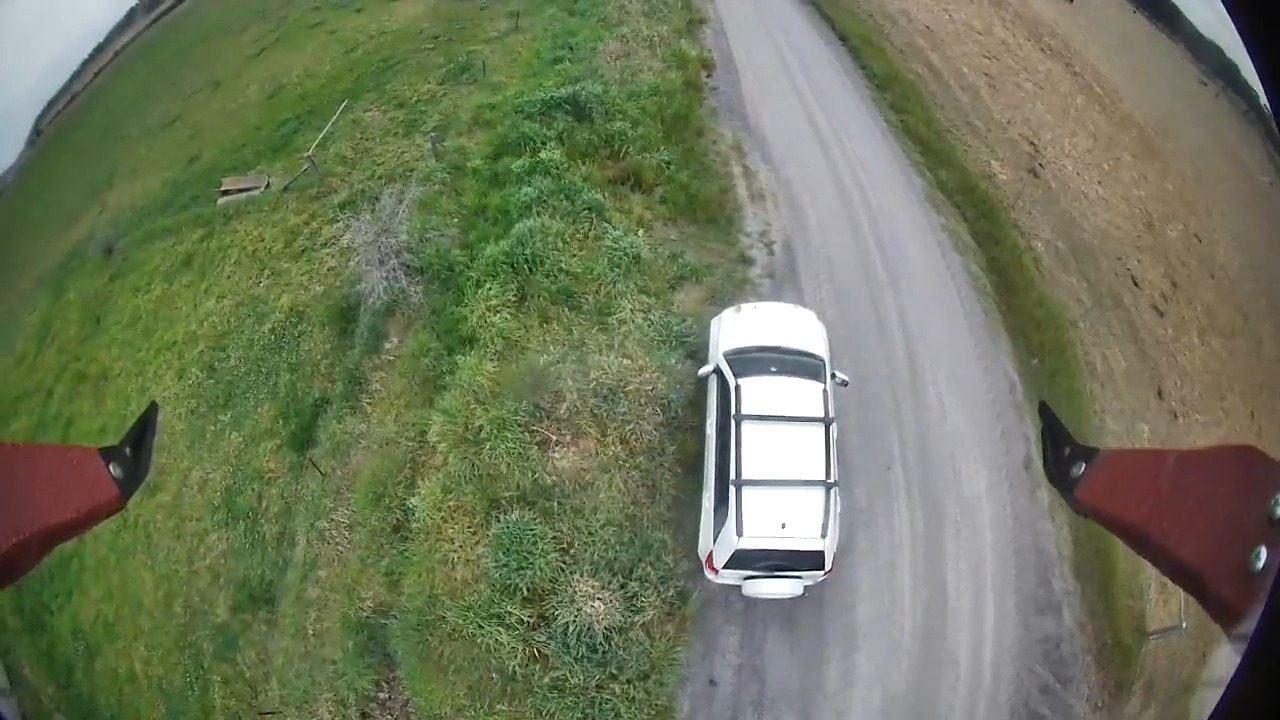Car: (697, 301, 849, 599)
